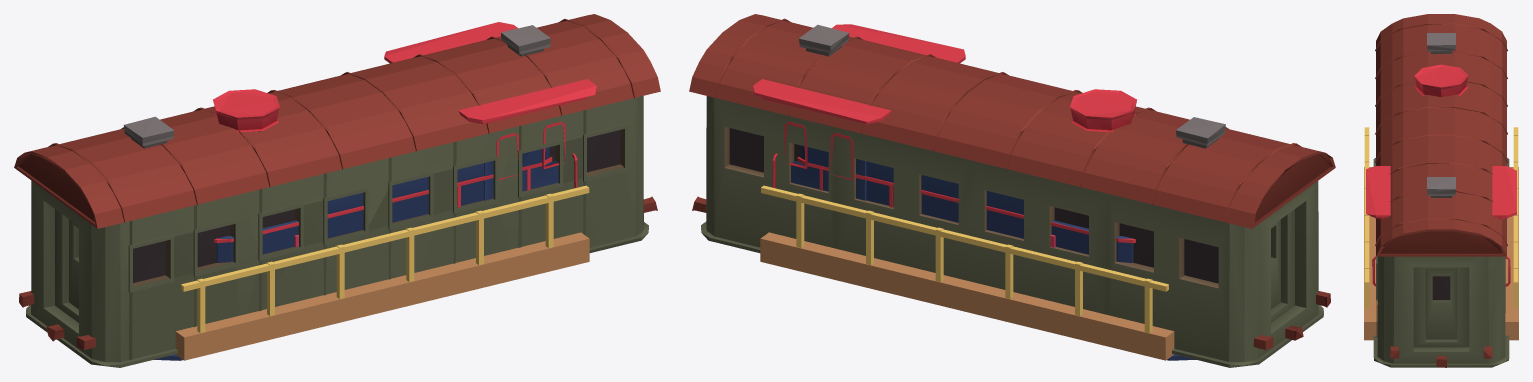
Rendered from r3f-train.glb.
The picture shows the model from 3 angles, left to right: view 1: azimuth 30°, elevation 25°; view 2: azimuth 150°, elevation 25°; view 3: azimuth 270°, elevation 25°; orthographic projection. The views are drawn at different scales.
Visible parts, largest first — view 1: train-wagon, TrainCar_0, train-loco, train-tender; view 2: train-wagon, TrainCar_0, train-loco, train-tender; view 3: train-wagon, train-loco, TrainCar_0.
Boxes of the visible parts, x1=… form: train-wagon: x1=14, y1=14, x2=660, y2=367; TrainCar_0: x1=175, y1=185, x2=589, y2=360; train-loco: x1=154, y1=22, x2=596, y2=360; train-tender: x1=214, y1=147, x2=552, y2=262; train-wagon: x1=689, y1=14, x2=1335, y2=367; TrainCar_0: x1=760, y1=185, x2=1174, y2=360; train-loco: x1=753, y1=24, x2=1195, y2=360; train-tender: x1=797, y1=145, x2=1135, y2=262; train-wagon: x1=1373, y1=14, x2=1509, y2=367; train-loco: x1=1366, y1=64, x2=1516, y2=286; TrainCar_0: x1=1364, y1=127, x2=1518, y2=340.
Size of the model in its own units: 9.09 by 3.3 by 2.7.
